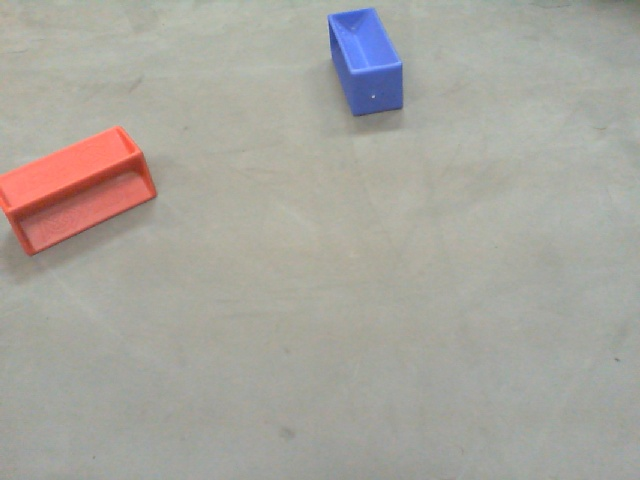BlueSample: (327, 6, 410, 119)
RedSample: (1, 124, 155, 257)
